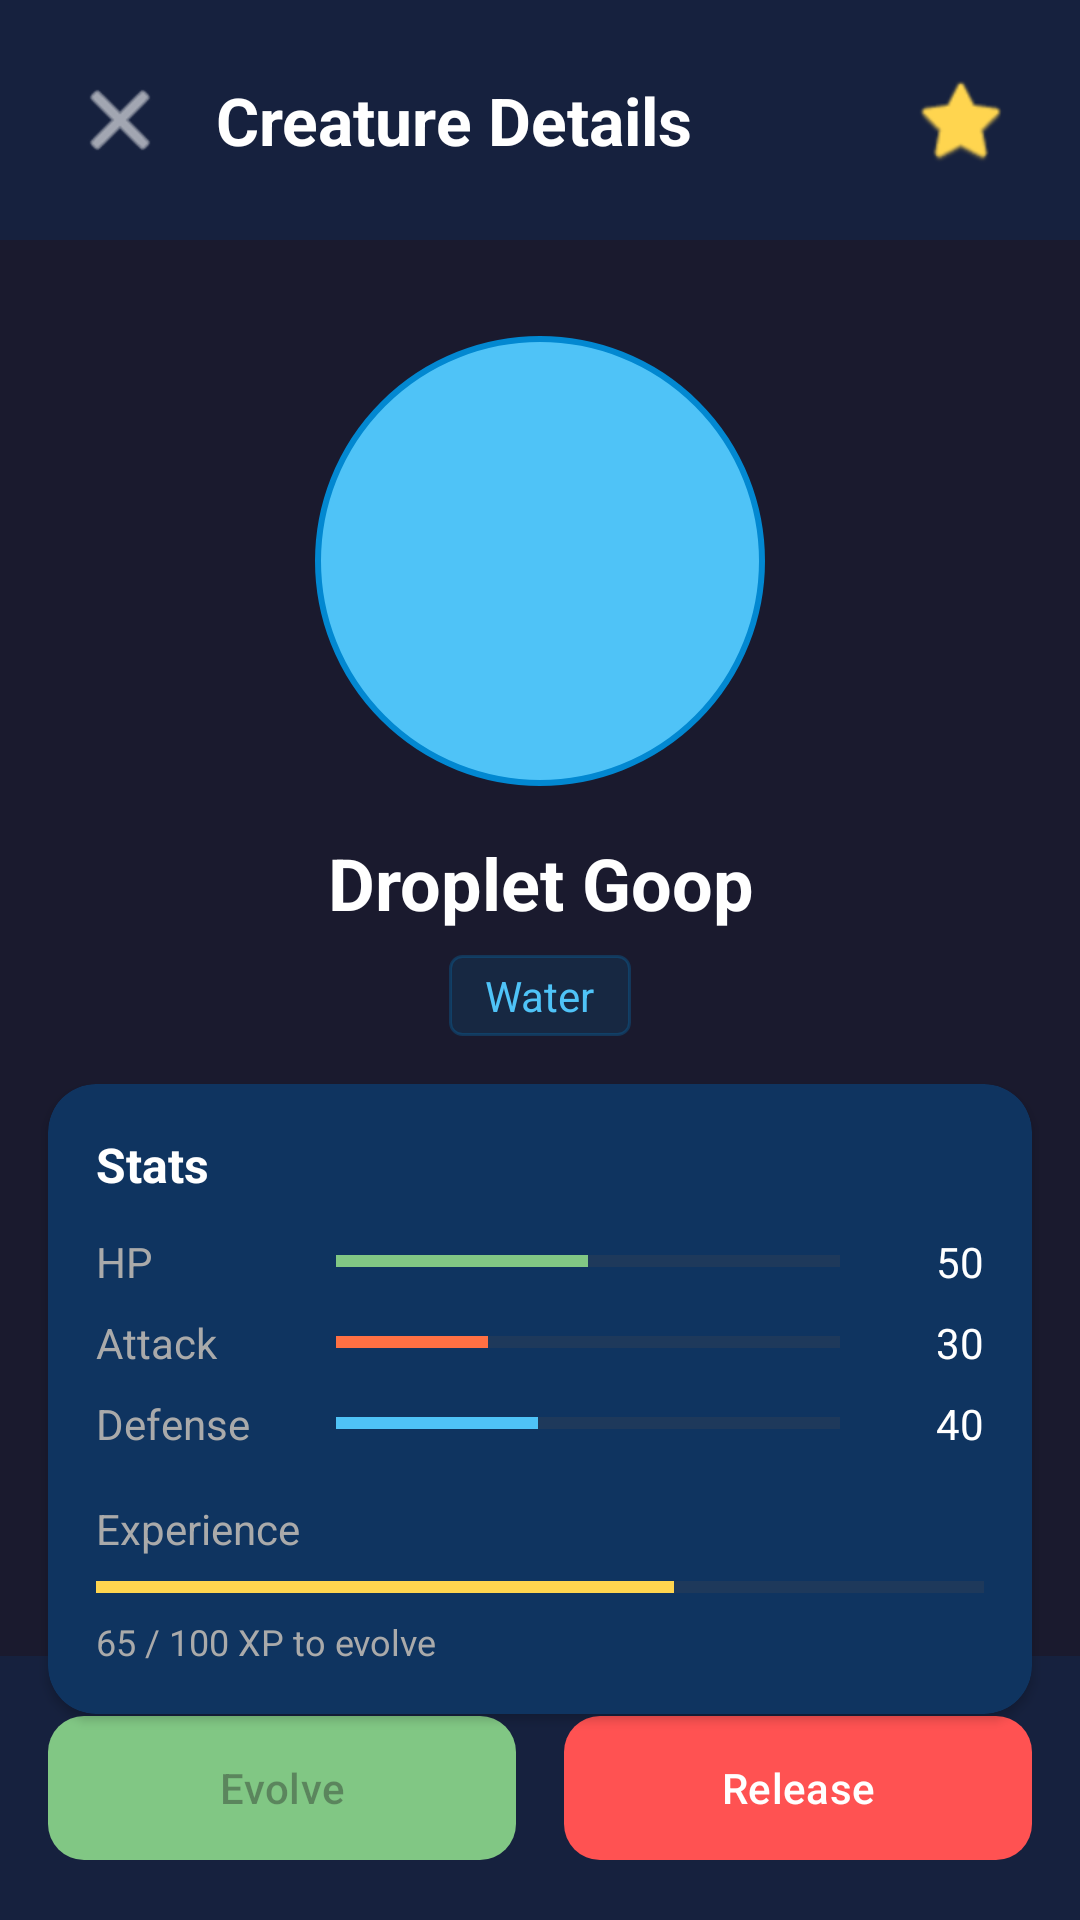

Screen size 1080 × 1920. Icon name, then its box in pixels as (x1, y1, x2, y2):
Favorite: (921, 82, 1001, 160)
